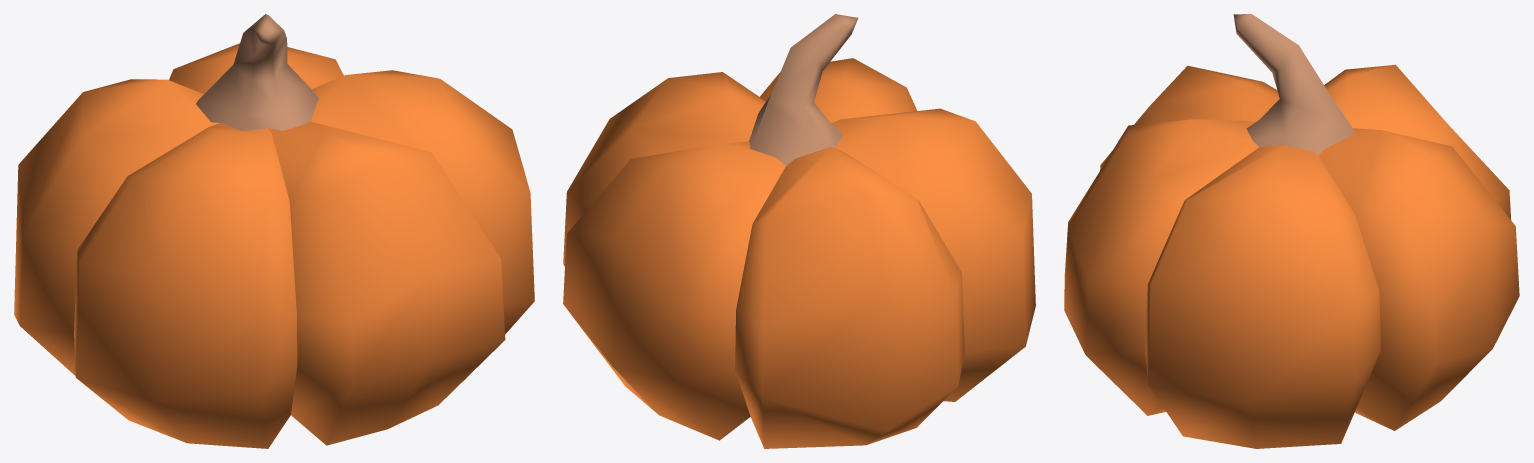
Rendered from Pumpkin_B.fbx.
3 views of the same model, side by side, from view 1: azimuth 30°, elevation 25°; view 2: azimuth 150°, elevation 25°; view 3: azimuth 270°, elevation 25° (orthographic). The views are drawn at different scales.
Parts seen in each view (by area): view 1: Pumpkin_B; view 2: Pumpkin_B; view 3: Pumpkin_B.
Boxes of the visible parts, <box> form: Pumpkin_B: <box>14,14,534,448</box>; Pumpkin_B: <box>563,14,1035,448</box>; Pumpkin_B: <box>1064,14,1519,448</box>.
Size of the model in its own units: 50.93 by 43.5 by 48.67.
